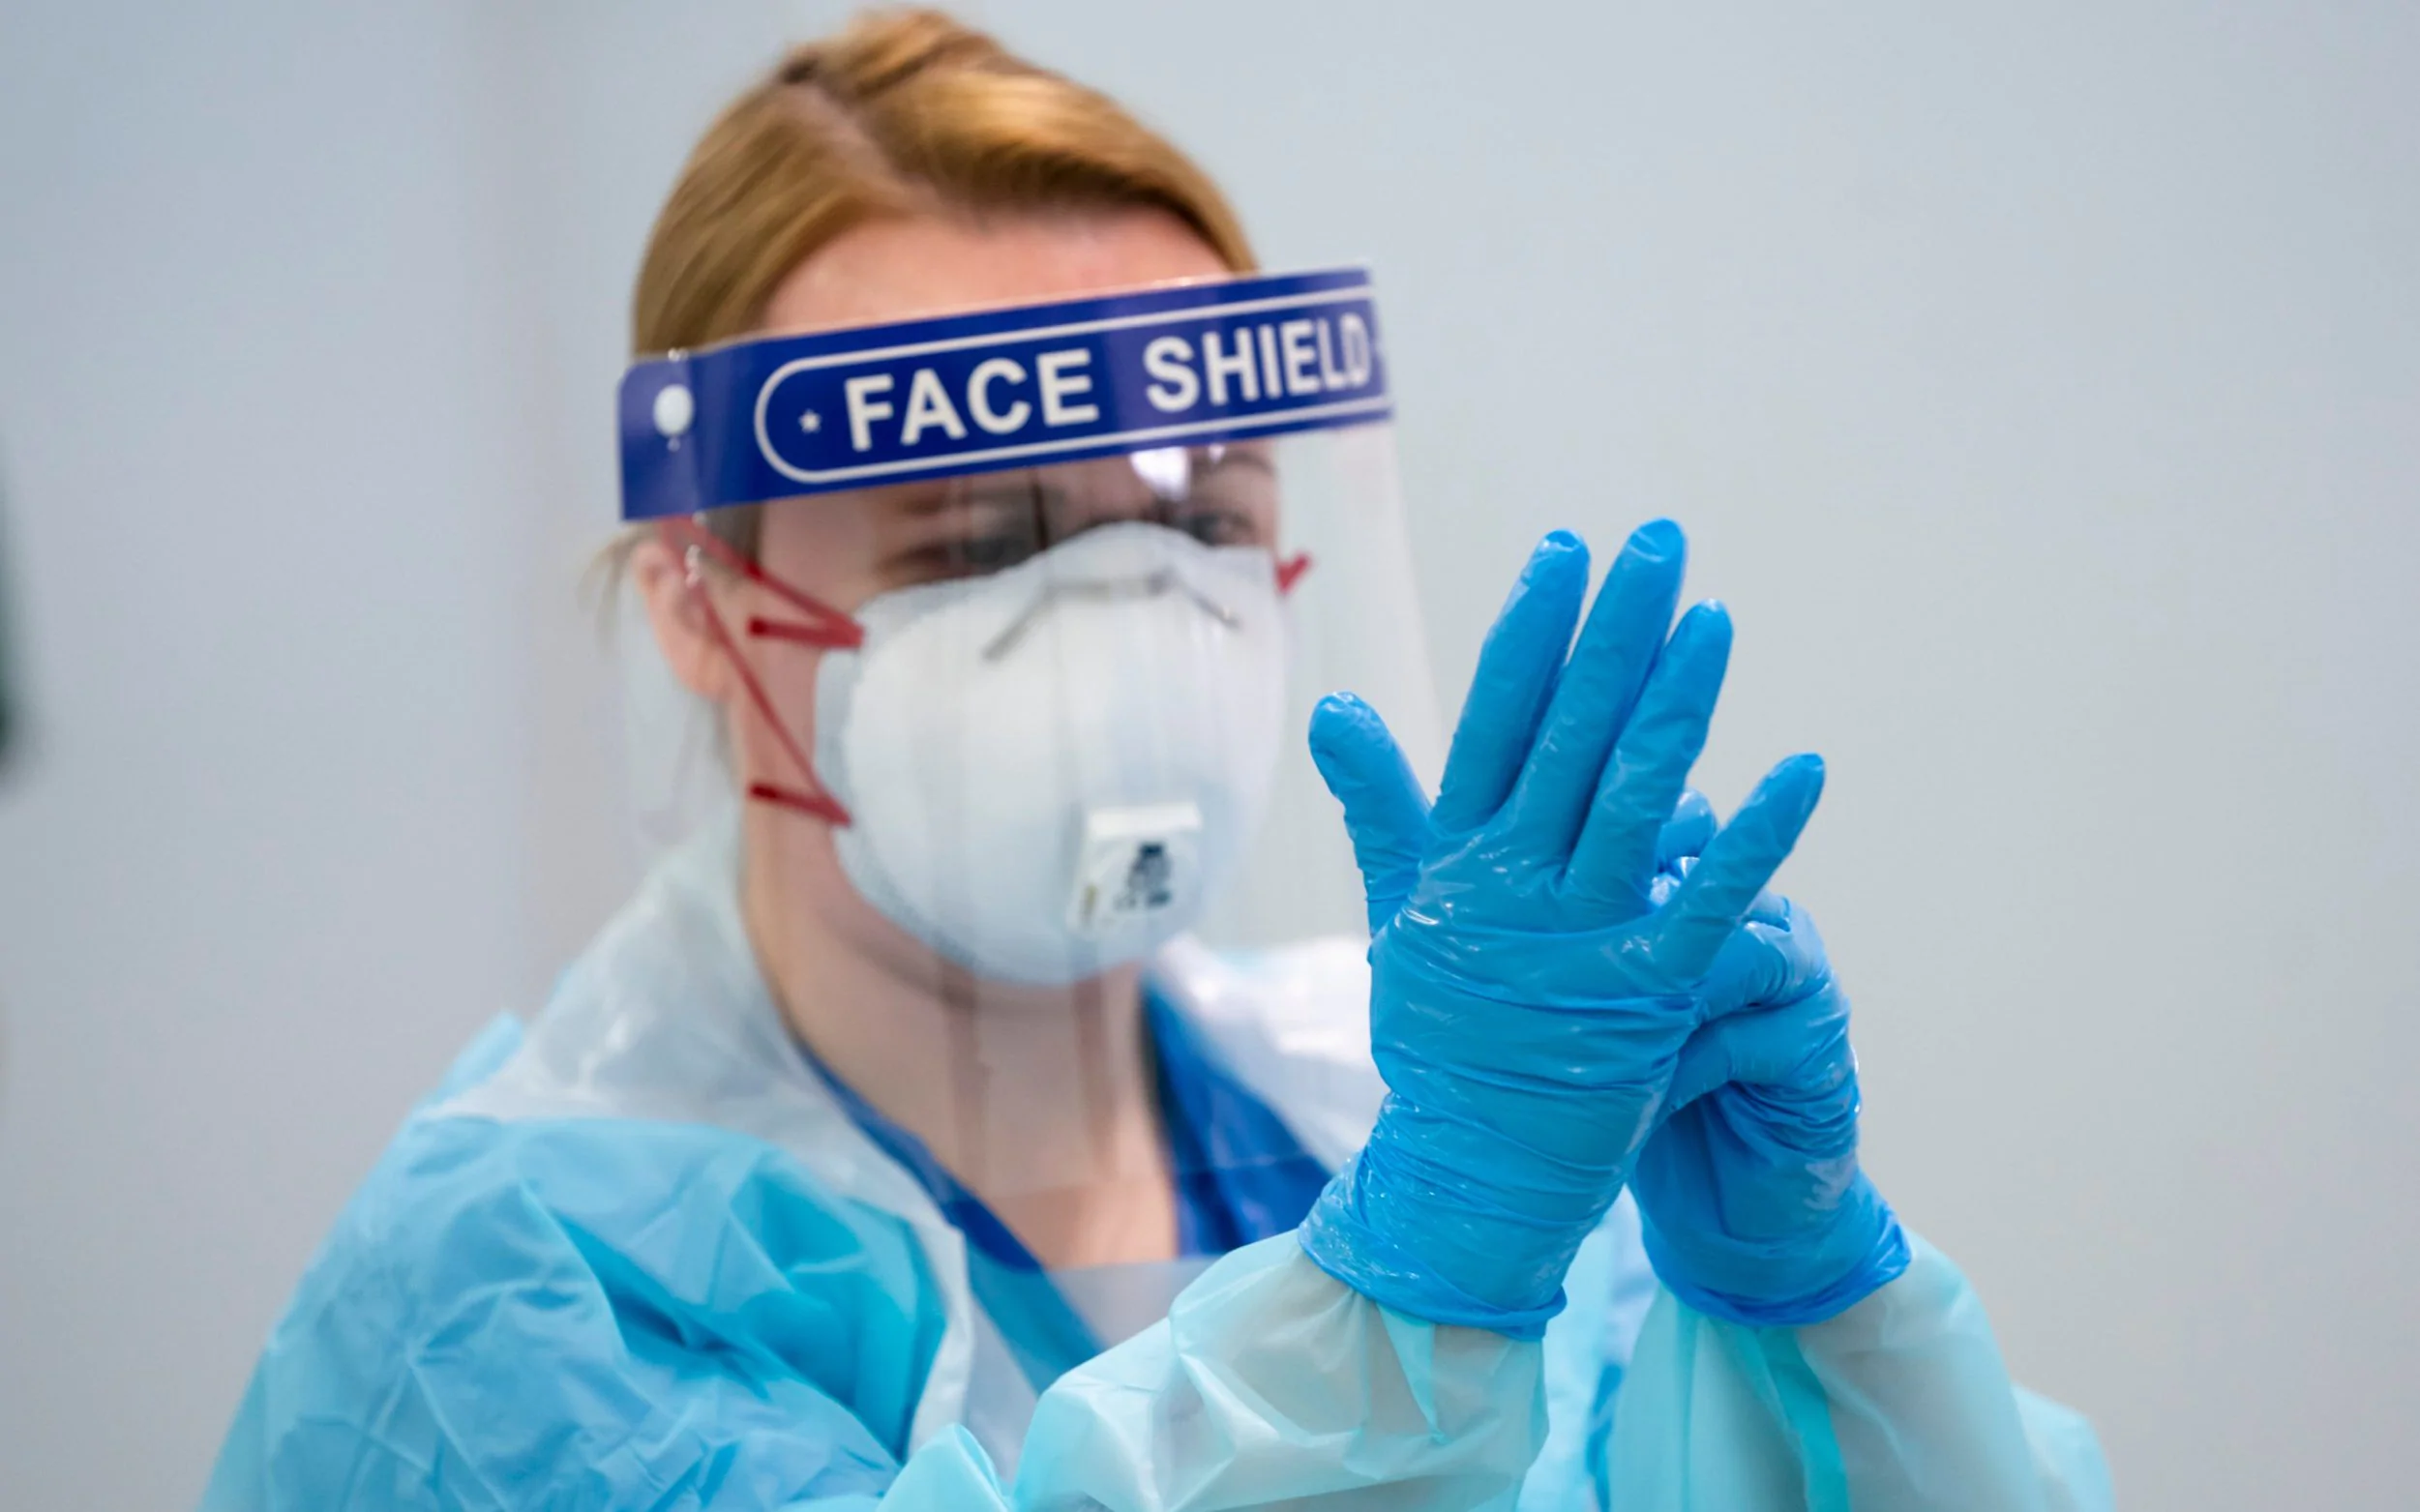glove: (1288, 512, 1838, 1296), (1519, 773, 1915, 1319)
